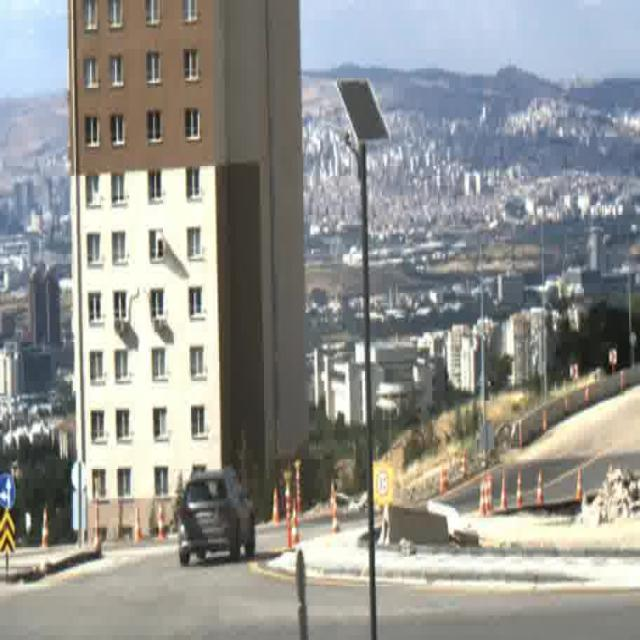Car: (179, 468, 255, 565)
